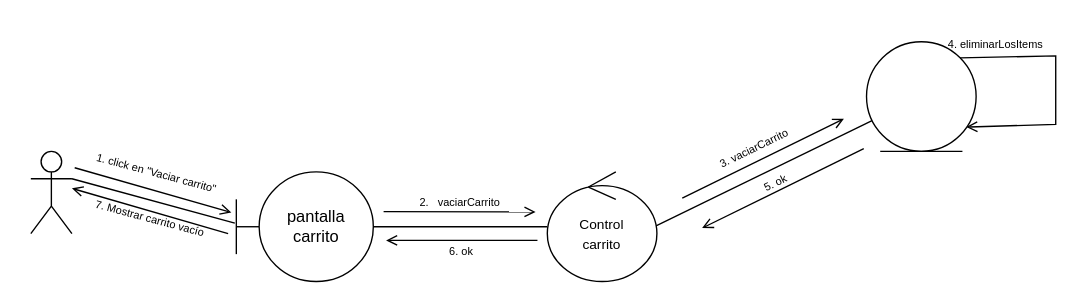
Some shapes in this 1092 by 306 pixel diagram are drawn without their labels. The shapes that lost their labels are listed below. From the top down, each one's centre as x and y in pixels, then its label:
the point at 920,95: Carrito
the point at 50,192: Cliente
